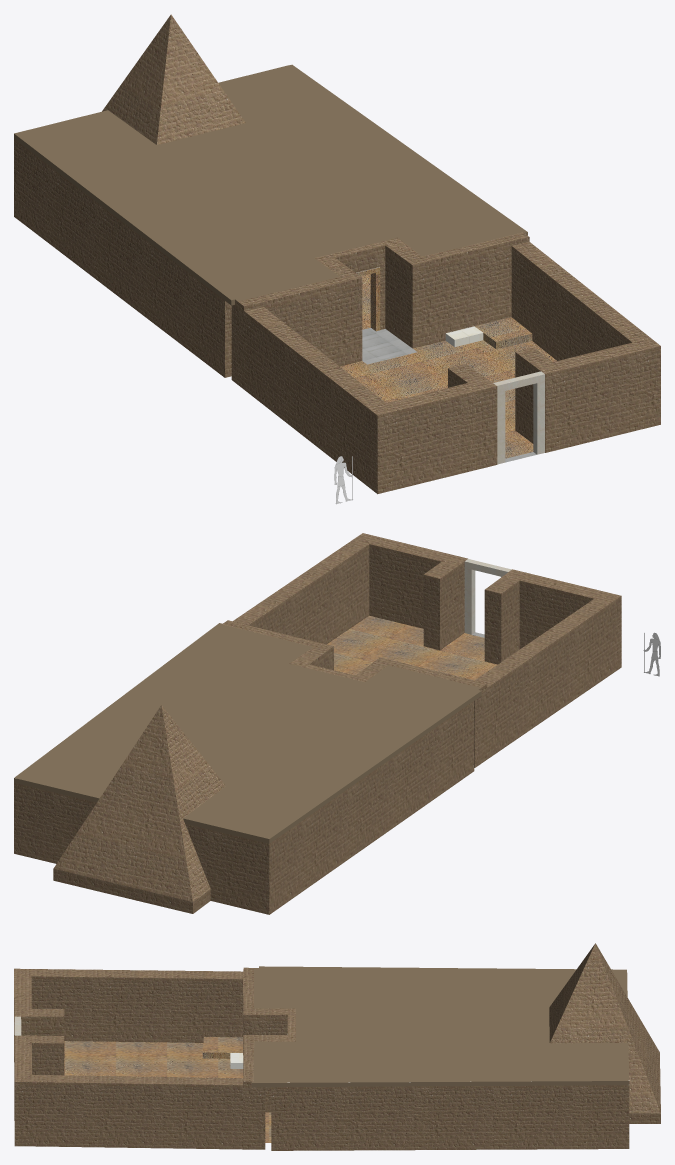
Rendered from Ramose.obj.
3 views of the same model, one above another, from view 1: azimuth 30°, elevation 25°; view 2: azimuth 150°, elevation 25°; view 3: azimuth 270°, elevation 25° (orthographic). The views are drawn at different scales.
Parts seen in each view (by area): view 1: Mesh6 Model, Mesh8 Model; view 2: Mesh6 Model, Mesh8 Model; view 3: Mesh6 Model, Mesh8 Model.
Boxes of the visible parts, x1=… form: Mesh6 Model: x1=14, y1=64, x2=660, y2=494; Mesh8 Model: x1=102, y1=14, x2=245, y2=144; Mesh6 Model: x1=14, y1=533, x2=621, y2=914; Mesh8 Model: x1=53, y1=705, x2=225, y2=913; Mesh6 Model: x1=14, y1=966, x2=629, y2=1150; Mesh8 Model: x1=549, y1=943, x2=660, y2=1123.
Size of the model in its own units: 12.1 by 6.25 by 24.45.
